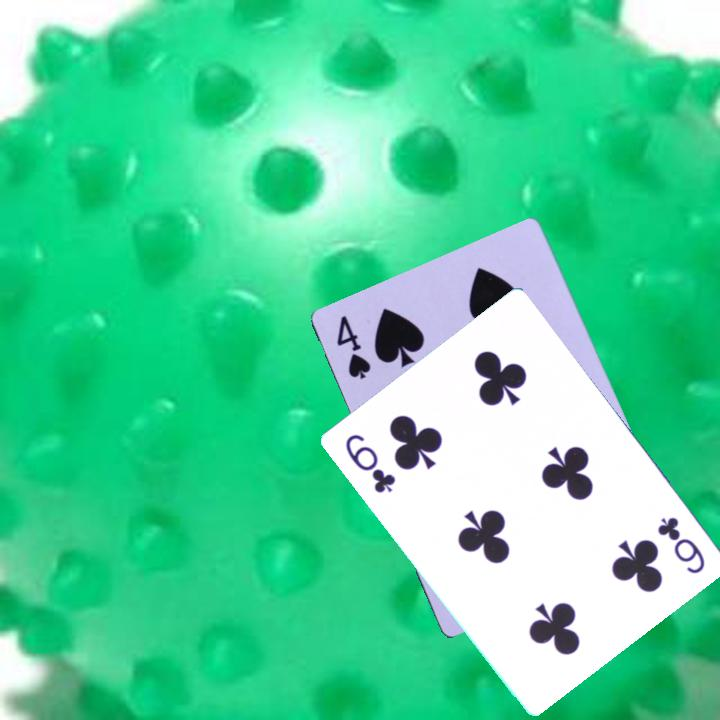4s: (333, 312, 375, 383)
6c: (341, 430, 399, 496), (653, 513, 708, 577)
